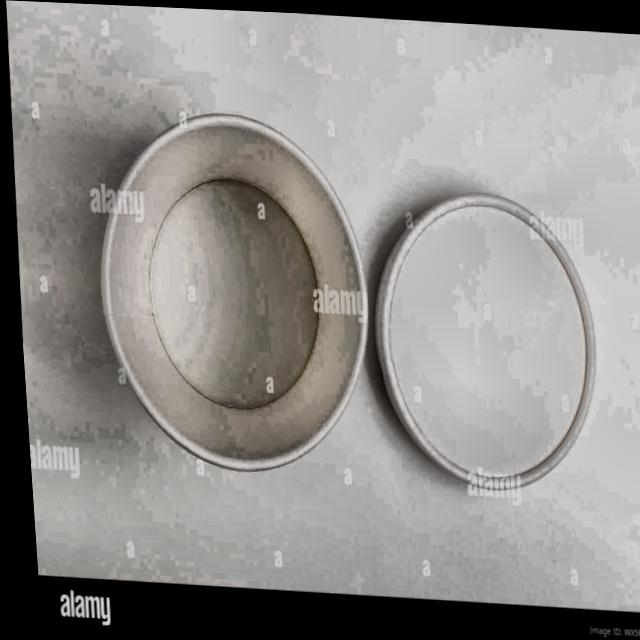Cup: (69, 87, 383, 503)
